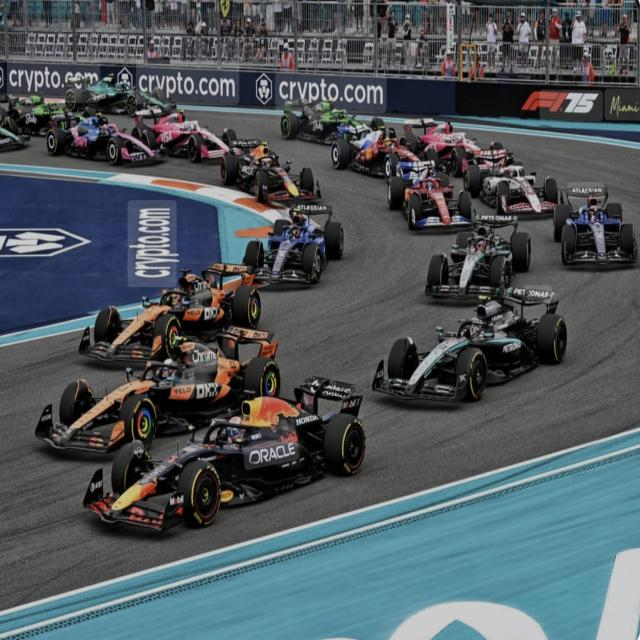Alpine: (47, 110, 166, 167)
Aston Martin: (64, 70, 178, 118)
Ferrari: (331, 122, 438, 185), (387, 158, 478, 232)
Haas: (463, 148, 565, 225)
Kick Sauber: (281, 96, 386, 147), (2, 92, 102, 136)
McLaren: (34, 323, 282, 458), (77, 262, 262, 366)
Mercedes: (370, 285, 568, 412), (425, 213, 533, 304)
Racing Bulls: (131, 106, 238, 164), (399, 121, 504, 178)
Red Bull: (80, 376, 368, 542), (221, 137, 322, 207)
Williams: (243, 202, 344, 296), (553, 186, 639, 278)
